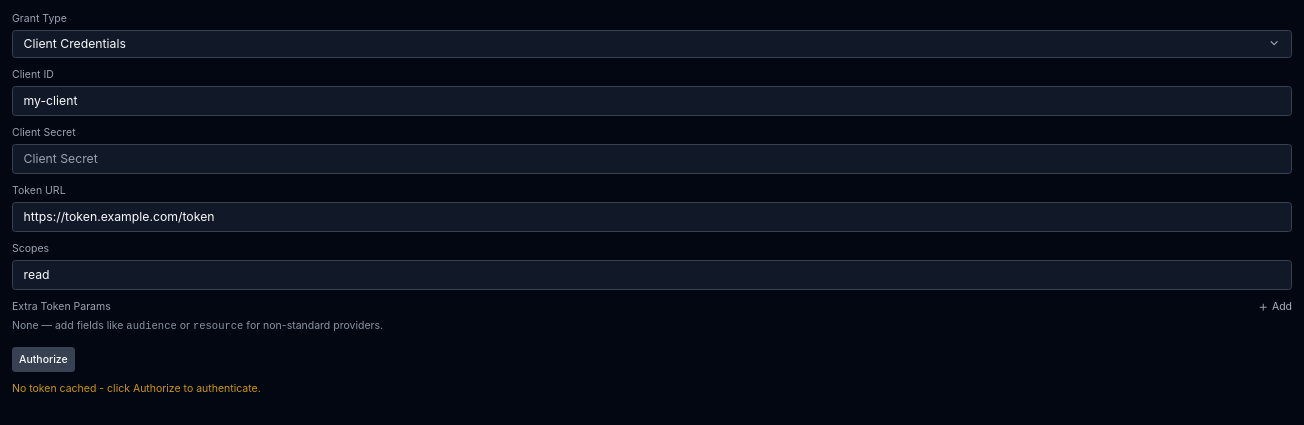
it: OAuthPanel › extra params UI › adds a new extra param row when Add is clicked
The image size is (1304, 425).
Click the button "Add" at (1275, 307), box [1258,300,1292,314]
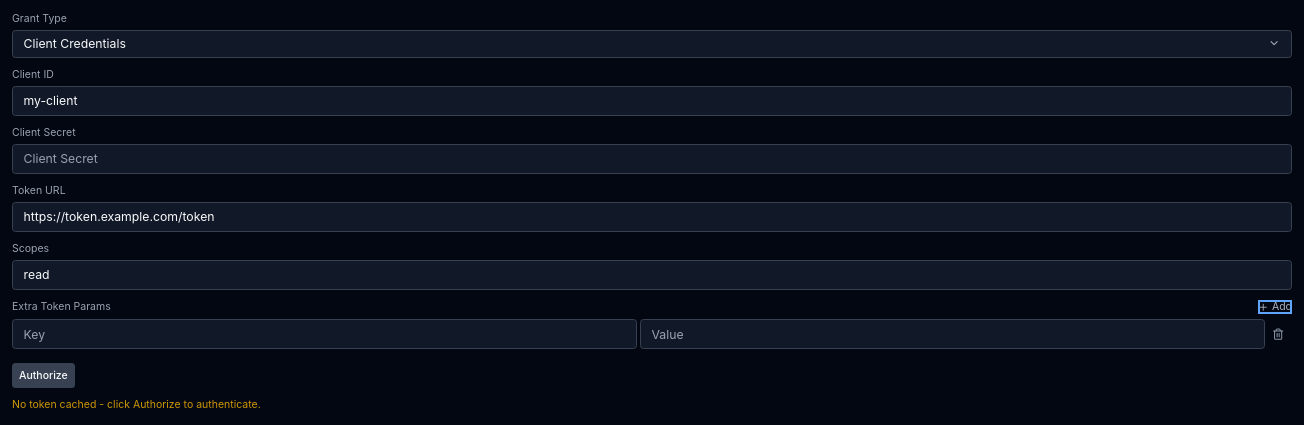
expect the field with placeholder "Key" is shown: met, box [12,319,636,349]
expect the field with placeholder "Value" is shown: met, box [640,319,1264,349]
